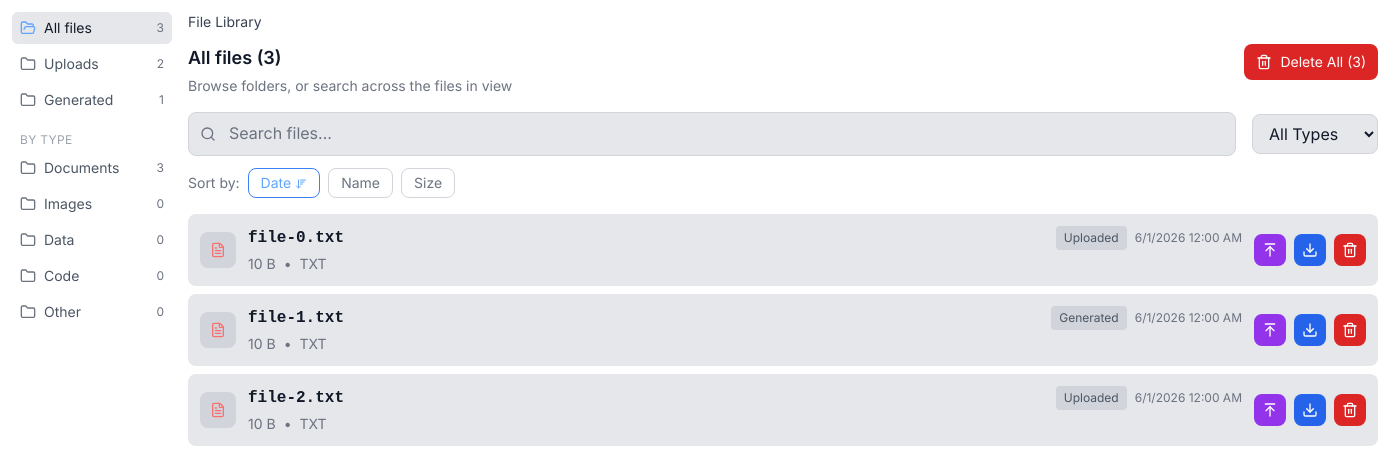
Test case: AllFilesView - bulk delete › labels the button "Delete All" and deletes every visible file
Click the button "Delete All (3)": (1311, 62) [1244, 44, 1378, 80]
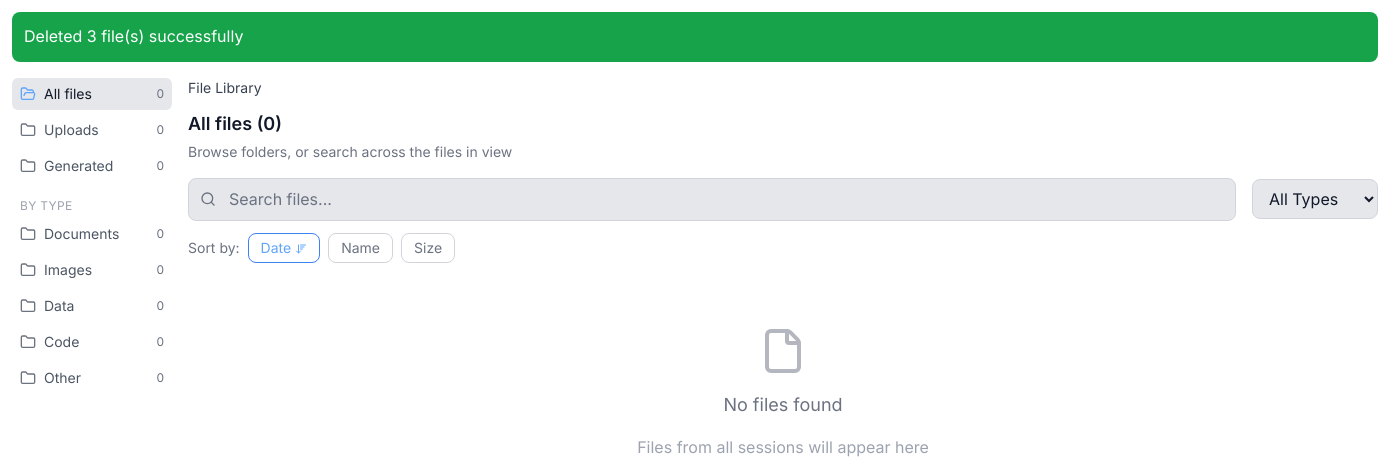
Now the text "Deleted 3 file(s) successfully" is shown, box [12, 12, 1378, 62]
